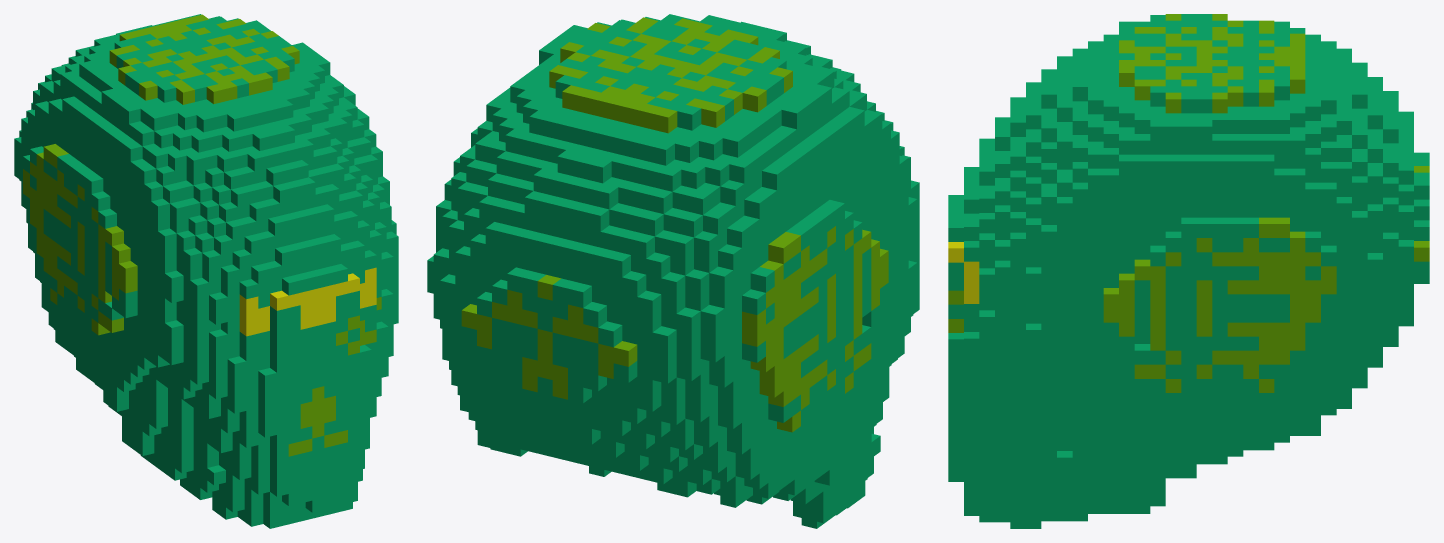
The picture shows the model from 3 angles, left to right: view 1: azimuth 30°, elevation 25°; view 2: azimuth 150°, elevation 25°; view 3: azimuth 270°, elevation 25°; orthographic projection. The views are drawn at different scales.
Size of the model in its own units: 1.05 by 1.55 by 1.55.
